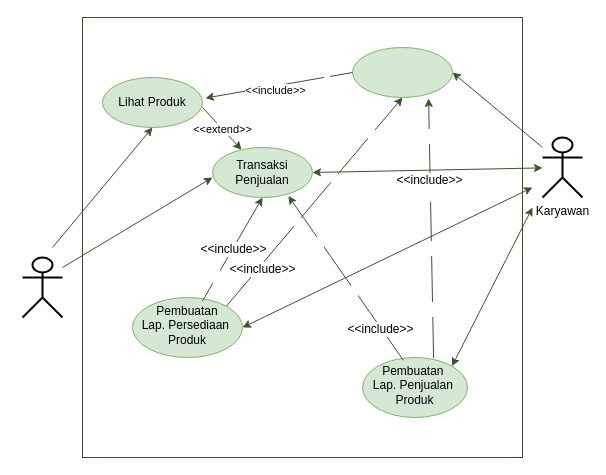
Image size: 606x475. Some labels were removed from this diagram. Each missing label, with the centre of its shape:
"Pelanggan" belongs at pixel 42 287.
"Update Produk" belongs at pixel 402 72.
